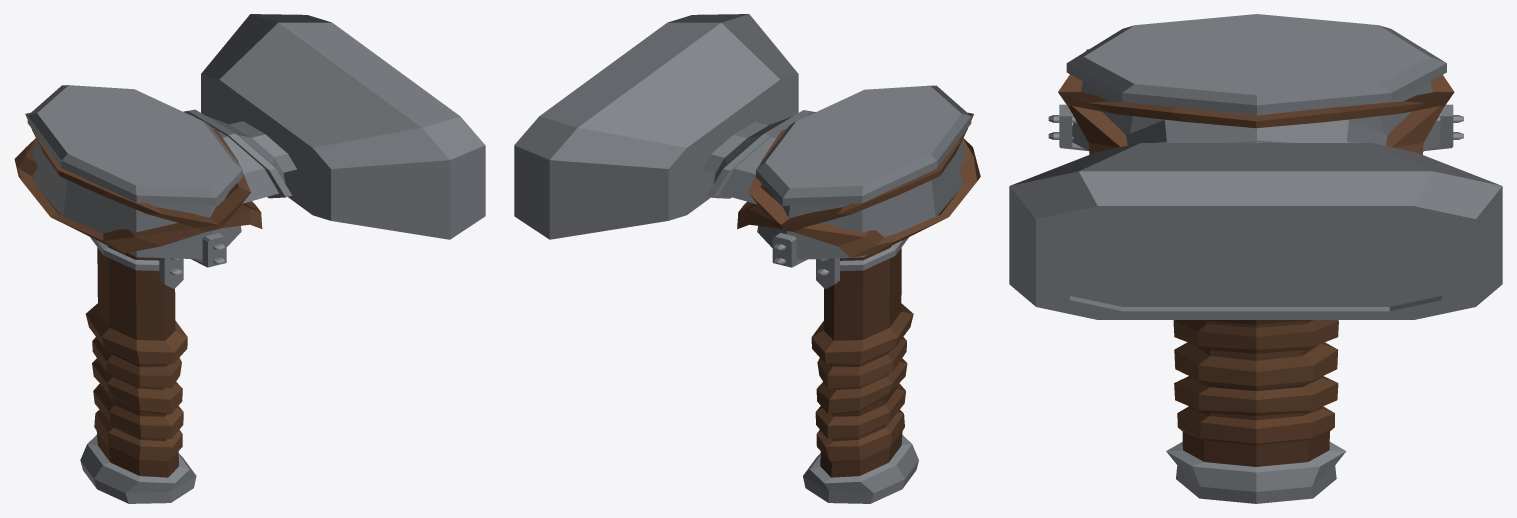
Rendered from gild_hammer_small.glb.
3 views of the same model, side by side, from view 1: azimuth 30°, elevation 25°; view 2: azimuth 150°, elevation 25°; view 3: azimuth 270°, elevation 25° (orthographic). The views are drawn at different scales.
Bounding box in the file's own units: 2 × 2 × 2.
